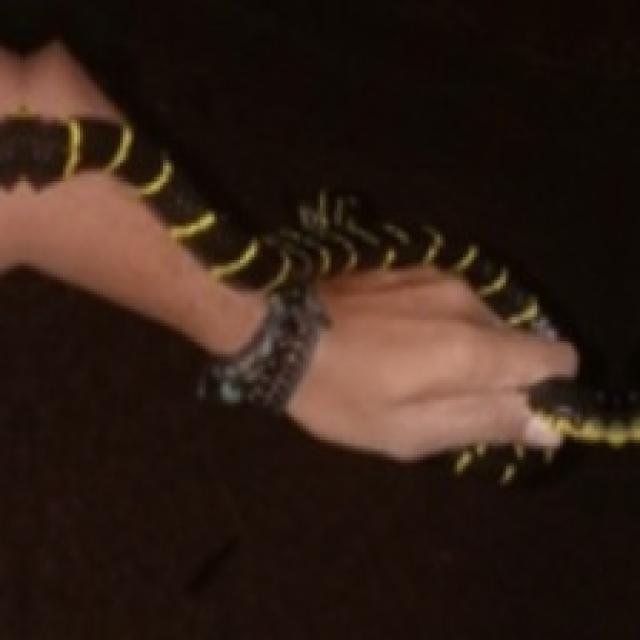mangrove cat snake: (1, 121, 560, 414), (532, 382, 640, 446), (452, 445, 551, 485)
